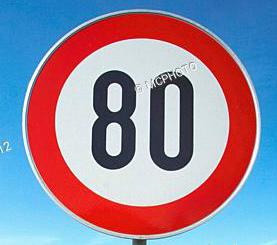Speed Limit -80-: (0, 1, 276, 244)
